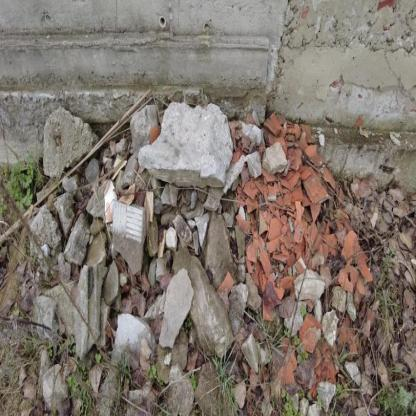brick: (1, 3, 415, 412)
